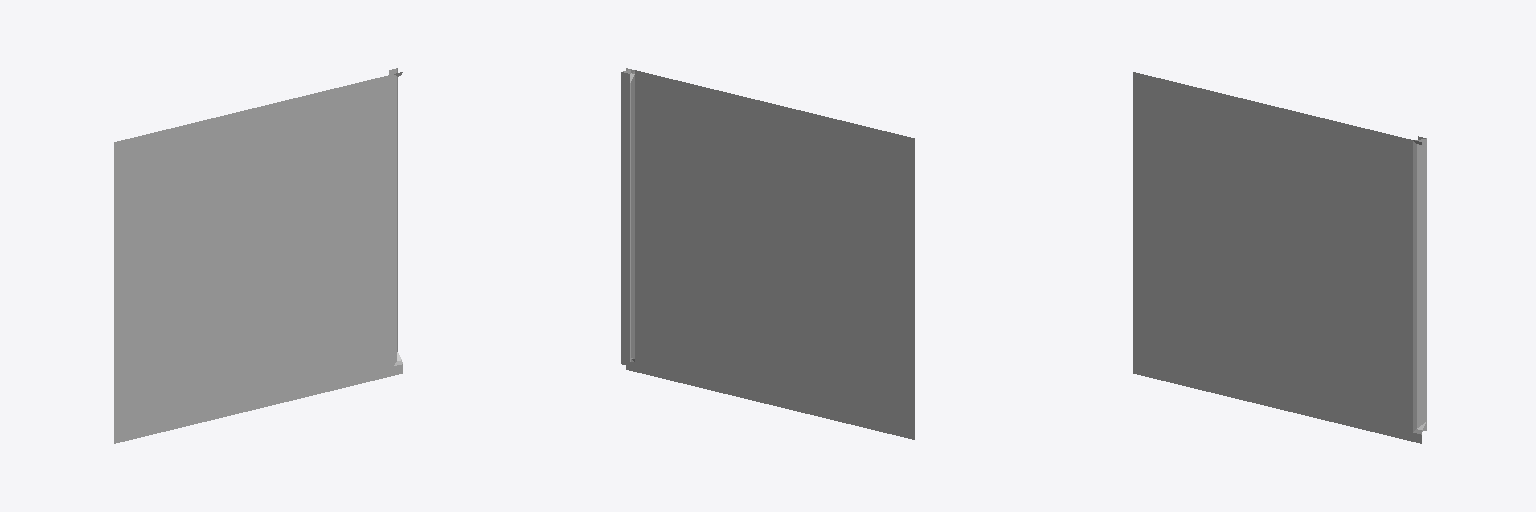
Rendered from Voltic-Cave_04_05.obj.
3 views of the same model, side by side, from view 1: azimuth 30°, elevation 25°; view 2: azimuth 150°, elevation 25°; view 3: azimuth 330°, elevation 25° (orthographic).
Visible parts, largest first — view 1: map; view 2: map; view 3: map.
Part boxes in pixels (x1,y1,x2,y2): map: (114,68,402,443); map: (621,68,914,439); map: (1133,72,1426,443).
Bounding box in the file's own units: 32 × 32 × 1.